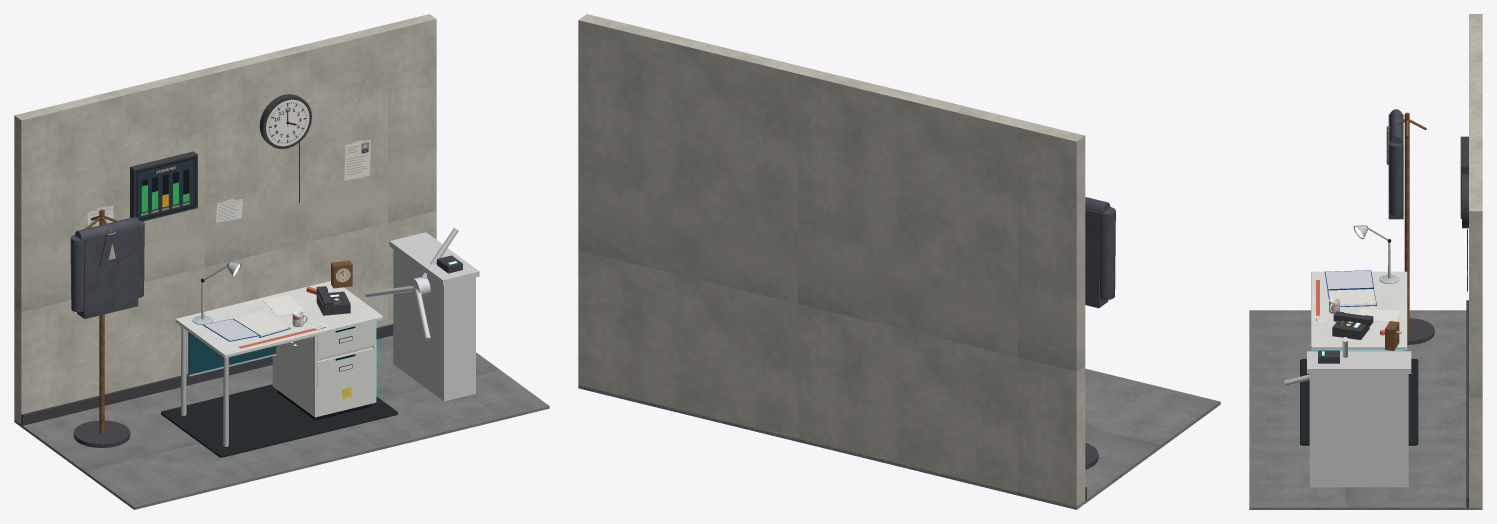
3 renders of one model, left to right at view 1: azimuth 30°, elevation 25°; view 2: azimuth 150°, elevation 25°; view 3: azimuth 270°, elevation 25°, orthographic. The views are drawn at different scales.
Parts seen in each view (by area): view 1: divisoria, piso, gabinete, base_peca, mesa_tampo, tronco, frente, divisoria_rodape, gaveteiro_lateral_esq, tampo, gaveteiro_frente_baixo, face (+13 smaller); view 2: divisoria, piso, tronco, manga; view 3: piso, gabinete, divisoria, mesa_tampo, tampo, base_peca, manga, haste, caixa (×2), pasta_capa_forro, pasta_miolo, divisoria_rodape (+7 smaller).
Boxes of the visible parts, x1=… form: divisoria: x1=14, y1=14, x2=436, y2=424; piso: x1=14, y1=335, x2=549, y2=509; gabinete: x1=393, y1=249, x2=475, y2=401; base_peca: x1=161, y1=384, x2=397, y2=457; mesa_tampo: x1=175, y1=281, x2=382, y2=357; tronco: x1=77, y1=226, x2=138, y2=318; frente: x1=135, y1=156, x2=196, y2=220; divisoria_rodape: x1=21, y1=324, x2=393, y2=427; gaveteiro_lateral_esq: x1=272, y1=336, x2=317, y2=417; tampo: x1=389, y1=232, x2=479, y2=285; gaveteiro_frente_baixo: x1=317, y1=373, x2=373, y2=416; face: x1=266, y1=99, x2=309, y2=146; divisoria: x1=578, y1=14, x2=1085, y2=509; piso: x1=578, y1=368, x2=1220, y2=509; tronco: x1=1085, y1=209, x2=1108, y2=308; manga: x1=1099, y1=207, x2=1115, y2=299; piso: x1=1249, y1=310, x2=1482, y2=509; gabinete: x1=1309, y1=374, x2=1408, y2=487; divisoria: x1=1469, y1=14, x2=1482, y2=509; mesa_tampo: x1=1311, y1=271, x2=1407, y2=349; tampo: x1=1307, y1=351, x2=1411, y2=373; base_peca: x1=1300, y1=359, x2=1418, y2=445; manga: x1=1388, y1=142, x2=1403, y2=215; haste: x1=1404, y1=112, x2=1409, y2=330; caixa (×2): x1=1385, y1=136, x2=1468, y2=350; pasta_capa_forro: x1=1325, y1=270, x2=1373, y2=289; pasta_miolo: x1=1328, y1=289, x2=1376, y2=304; divisoria_rodape: x1=1466, y1=300, x2=1468, y2=509.
Bounding box in the file's own units: 3.4 × 2.4 × 1.7.
Materials: 46 (14 with a texture image).
